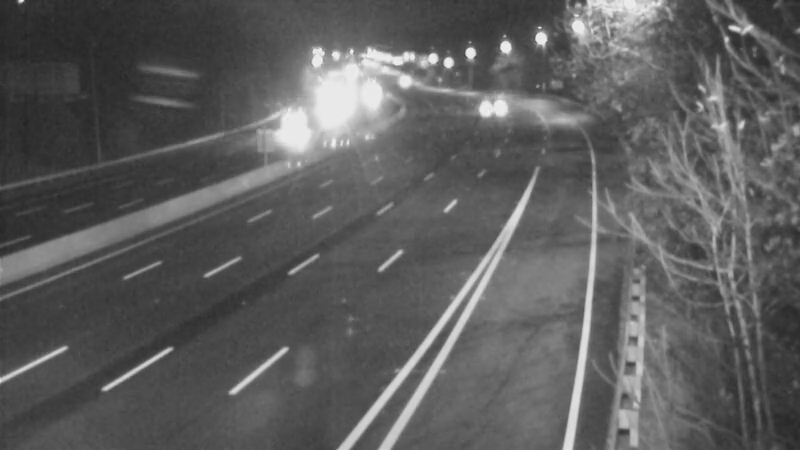vehicle: (374, 55, 424, 105), (461, 75, 511, 125), (263, 101, 313, 151), (345, 73, 395, 123)
